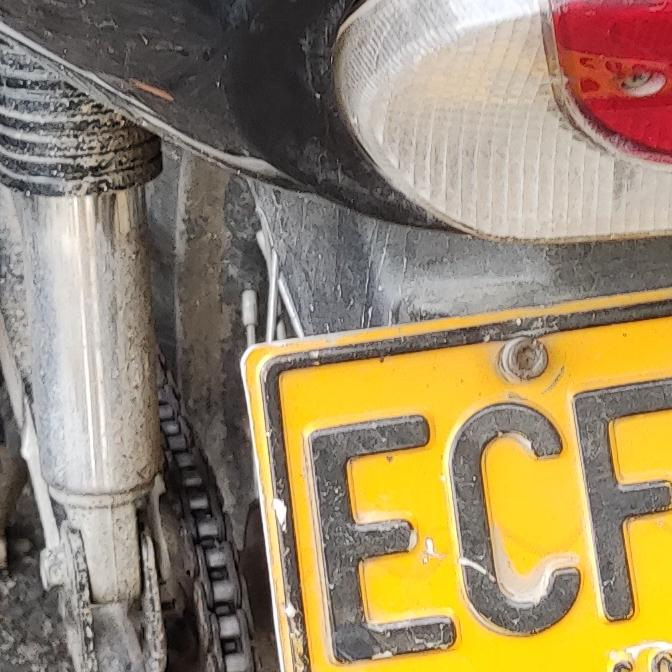plates: (243, 288, 672, 672)
